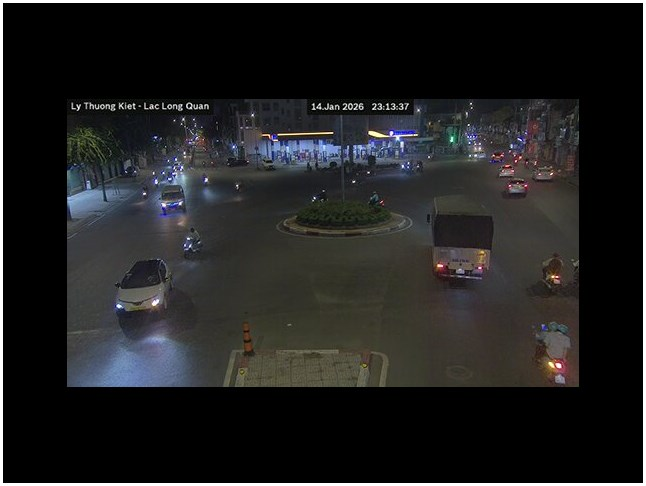car: (114, 257, 173, 314), (531, 320, 574, 386), (160, 184, 185, 209), (182, 230, 202, 254), (502, 179, 528, 197), (533, 166, 556, 181)
truck: (429, 194, 495, 282)
